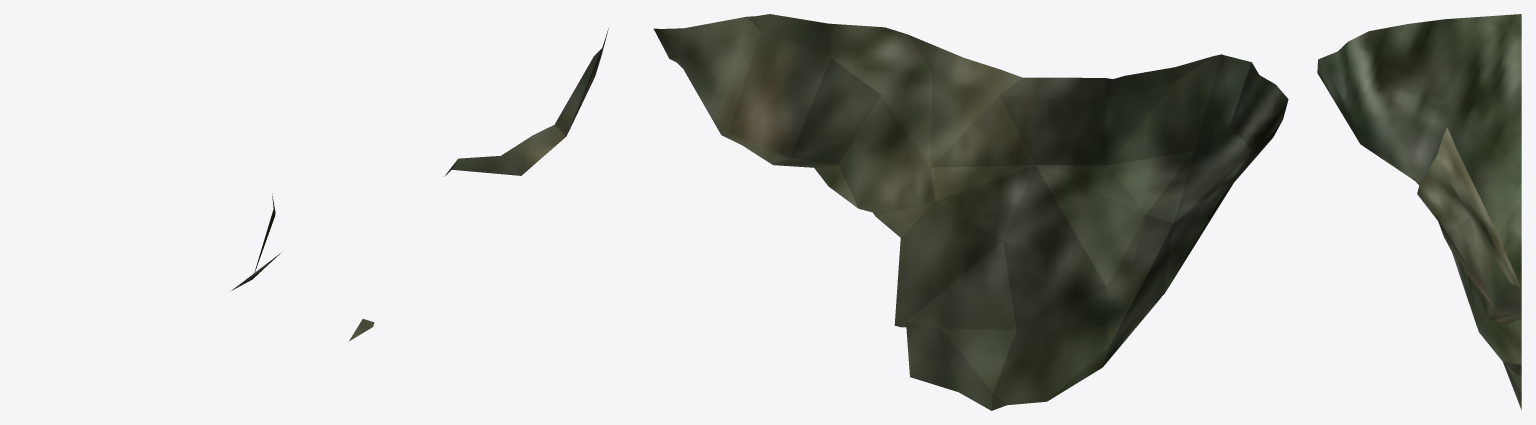
3 renders of one model, left to right at view 1: azimuth 30°, elevation 25°; view 2: azimuth 150°, elevation 25°; view 3: azimuth 270°, elevation 25°, orthographic. The views are drawn at different scales.
Bounding box in the file's own units: 0.8932 × 0.435 × 0.3035.
Materials: 1 (1 with a texture image).
